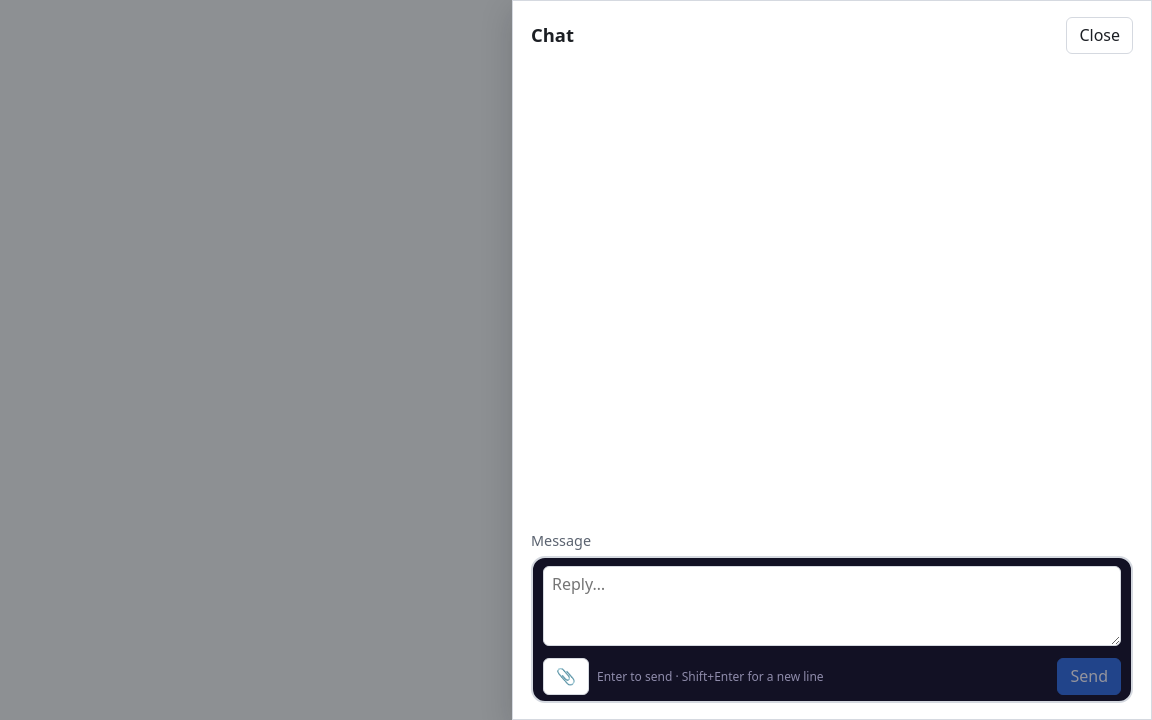
Scenario: the user's message appears in the transcript immediately while the turn runs
The width and height of the screenshot is (1152, 720).
Type "my question" into the text box labelled "Message".
click(832, 606); type("my question")  # box [543, 566, 1121, 646]
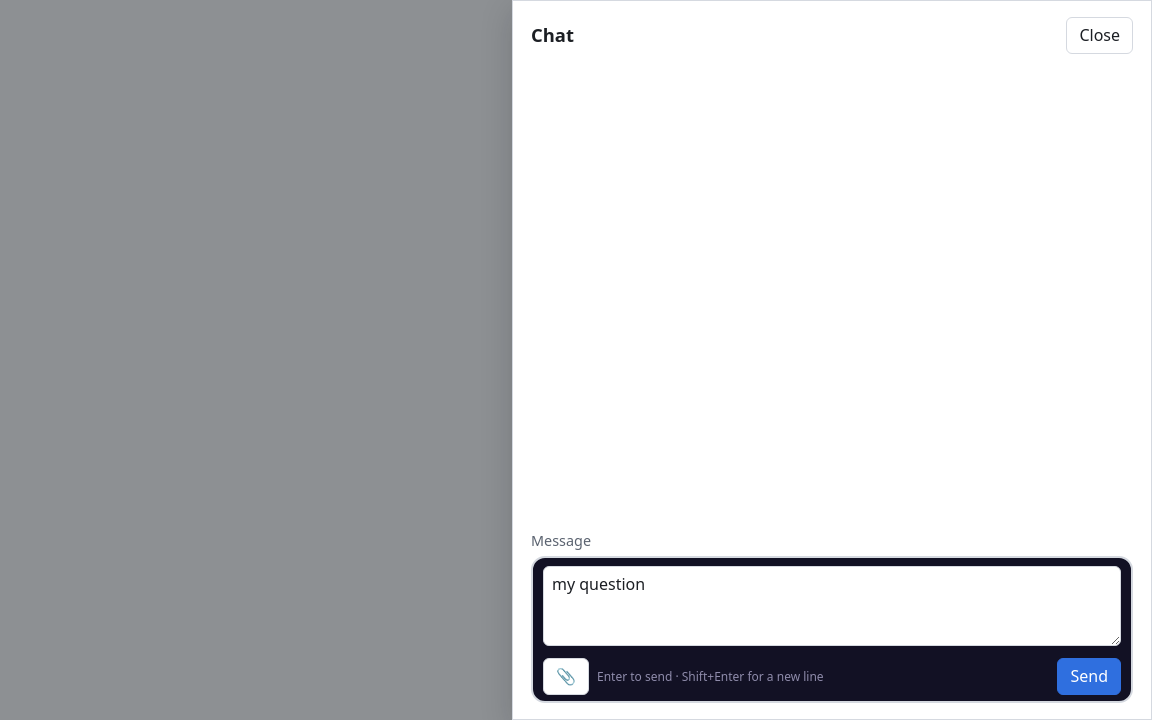
Click the button "Send".
click(1089, 676)  # box [1058, 658, 1121, 695]
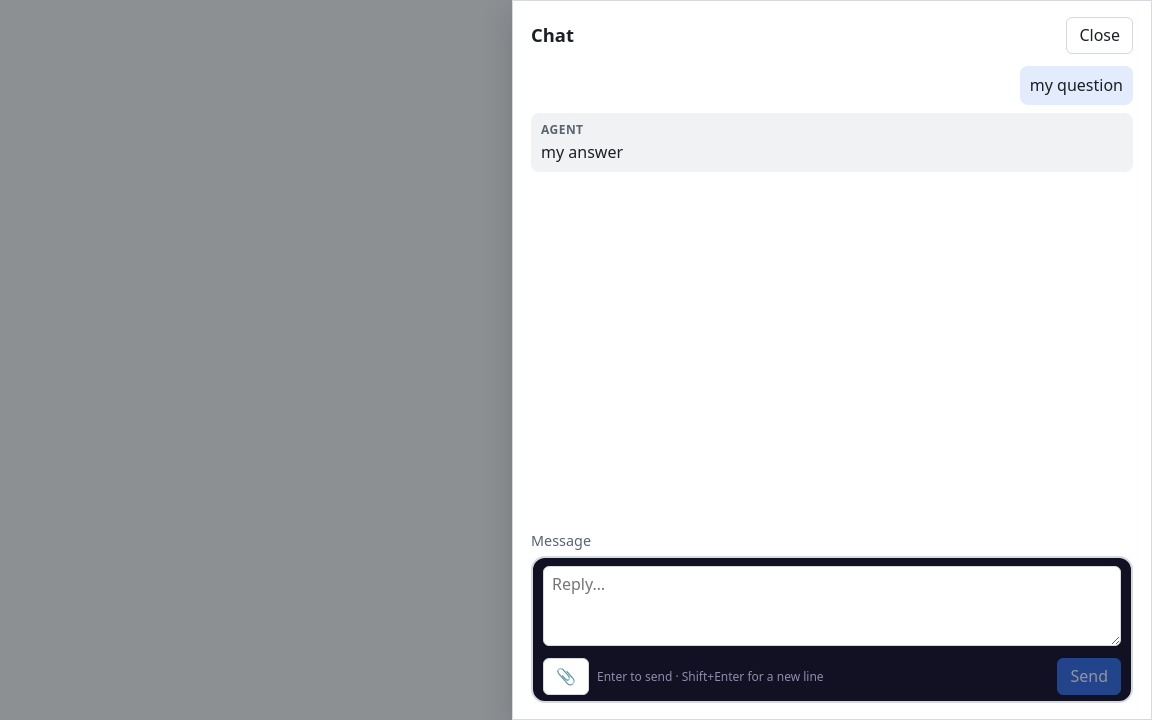
expect the text "my answer" is shown: met, box [541, 141, 623, 163]
expect the text "my question" is shown once: met, box [1030, 74, 1123, 96]
